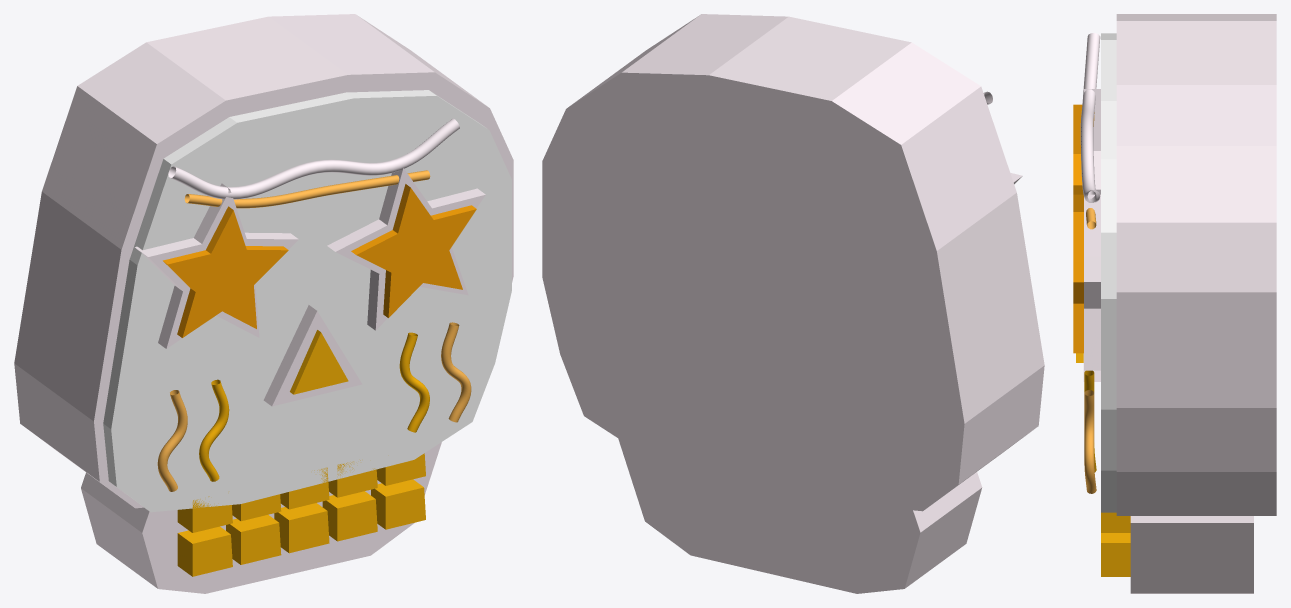
The model's file is tengkorak.glb.
The picture shows the model from 3 angles, left to right: view 1: azimuth 30°, elevation 25°; view 2: azimuth 150°, elevation 25°; view 3: azimuth 270°, elevation 25°; orthographic projection.
Visible parts, largest first — view 1: Molded pink face, Dark silhouette, Jaw, Yellow star eye.001, Yellow star eye, Star eye outline.001, Star eye outline, Brow line, Nose outline, Rounded peach tooth.005, Golden brow sweep, Rounded peach tooth.008 (+13 smaller); view 2: Dark silhouette, Jaw; view 3: Dark silhouette, Jaw, Molded pink face, Star eye outline.001, Brow line, Yellow star eye.001, Rounded peach tooth.009, Cheek stripe.003, Yellow star eye, Star eye outline, Rounded peach tooth.004.
Boxes of the visible parts, x1,y1,x2,y2 form: Molded pink face: [103, 90, 511, 512]; Dark silhouette: [14, 14, 513, 508]; Jaw: [81, 442, 441, 593]; Yellow star eye.001: [351, 184, 476, 317]; Yellow star eye: [163, 206, 288, 337]; Star eye outline.001: [327, 168, 485, 330]; Star eye outline: [135, 183, 298, 348]; Brow line: [168, 118, 459, 199]; Nose outline: [263, 305, 362, 406]; Rounded peach tooth.005: [177, 526, 232, 576]; Golden brow sweep: [184, 170, 430, 208]; Rounded peach tooth.008: [322, 491, 377, 541]; Dark silhouette: [542, 14, 1044, 511]; Jaw: [618, 438, 982, 593]; Dark silhouette: [1116, 14, 1276, 515]; Jaw: [1130, 516, 1253, 593]; Molded pink face: [1101, 33, 1116, 512]; Star eye outline.001: [1084, 194, 1100, 370]; Brow line: [1080, 33, 1100, 202]; Yellow star eye.001: [1073, 212, 1083, 353]; Rounded peach tooth.009: [1101, 533, 1130, 576]; Cheek stripe.003: [1084, 390, 1096, 493]; Yellow star eye: [1073, 104, 1083, 211]; Star eye outline: [1084, 89, 1100, 194]; Rounded peach tooth.004: [1101, 512, 1130, 532].
Bounding box in the file's own units: 2.13 × 2.41 × 0.8905.
